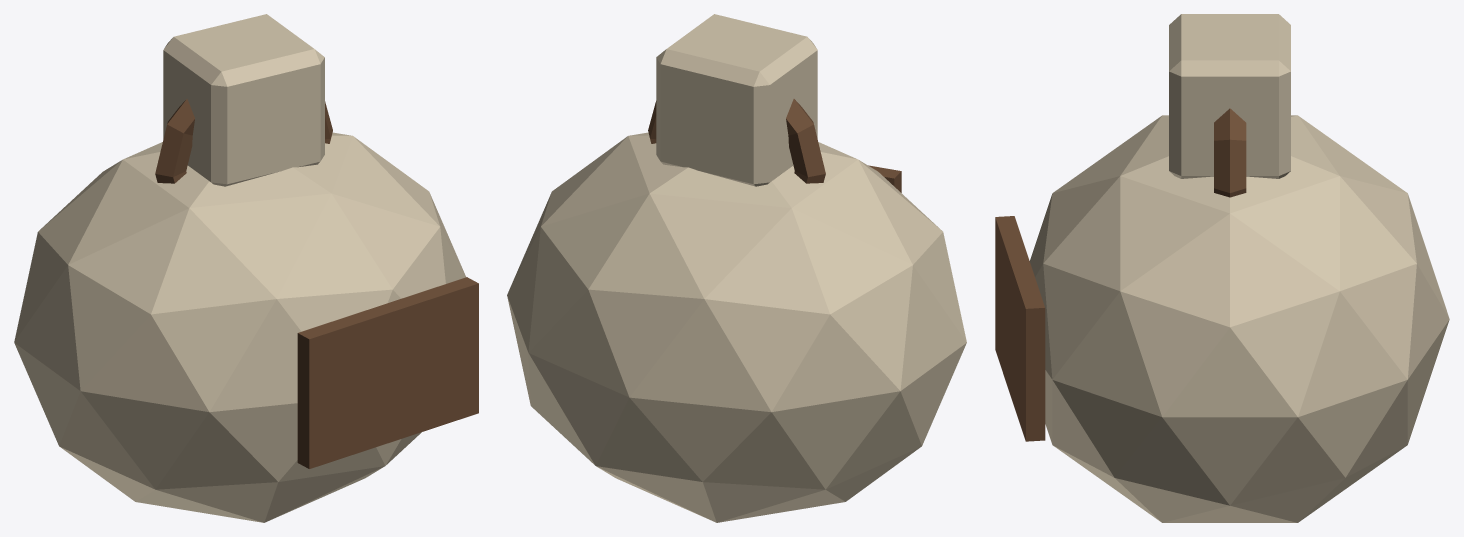
File: Kit_Sac.fbx
3 views of the same model, side by side, from view 1: azimuth 30°, elevation 25°; view 2: azimuth 150°, elevation 25°; view 3: azimuth 270°, elevation 25° (orthographic). The views are drawn at different scales.
Visible parts, largest first — view 1: Kit_Sac_Toile, Kit_Sac_Cuir; view 2: Kit_Sac_Toile, Kit_Sac_Cuir; view 3: Kit_Sac_Toile, Kit_Sac_Cuir.
Part boxes in pixels (x1,y1,x2,y2): Kit_Sac_Toile: [14, 14, 465, 522]; Kit_Sac_Cuir: [155, 99, 478, 468]; Kit_Sac_Toile: [507, 14, 966, 522]; Kit_Sac_Cuir: [648, 99, 901, 192]; Kit_Sac_Toile: [1029, 14, 1449, 522]; Kit_Sac_Cuir: [995, 108, 1246, 441].
Size of the model in its own units: 190 by 212 by 186.
